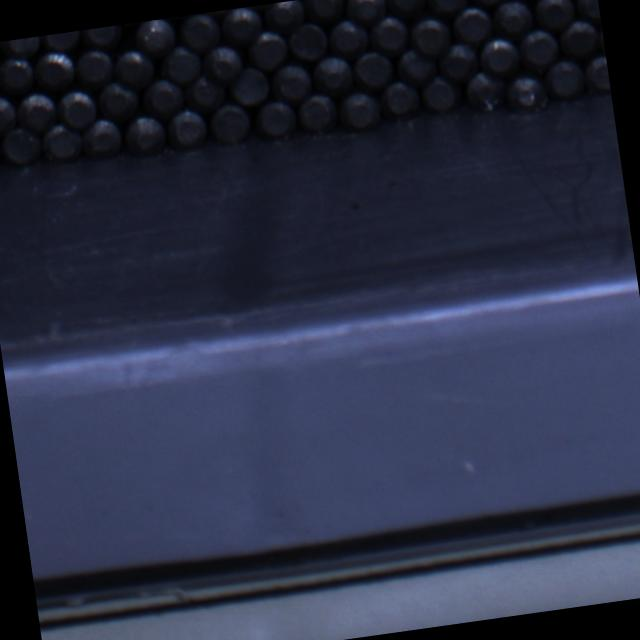tool: (123, 112, 169, 158), (112, 45, 158, 90), (208, 101, 254, 146), (464, 68, 509, 114), (15, 89, 60, 134), (268, 62, 314, 106), (78, 117, 124, 161), (408, 14, 454, 58), (436, 40, 482, 84), (96, 78, 142, 122), (246, 27, 291, 71), (515, 28, 560, 72), (477, 36, 522, 80), (296, 91, 341, 135), (337, 88, 382, 132), (311, 52, 356, 96), (140, 77, 186, 120), (201, 42, 245, 86), (328, 16, 372, 60), (32, 48, 76, 92), (368, 13, 412, 57), (56, 86, 100, 130), (544, 58, 588, 102), (164, 106, 208, 150), (506, 72, 550, 116), (39, 120, 84, 163), (183, 70, 228, 113), (226, 64, 272, 106), (287, 20, 331, 63), (352, 48, 396, 91), (452, 5, 496, 48), (179, 11, 224, 53), (417, 72, 462, 114), (1, 125, 45, 167), (160, 43, 204, 85), (72, 46, 116, 88), (396, 46, 440, 88), (254, 98, 298, 140), (558, 18, 602, 60), (378, 79, 422, 121), (220, 5, 264, 46), (133, 18, 178, 58), (489, 0, 534, 38), (261, 0, 307, 34), (0, 55, 36, 96), (531, 0, 576, 32), (584, 56, 612, 98), (344, 0, 389, 26), (82, 24, 126, 50), (304, 0, 347, 22), (1, 36, 42, 58), (42, 31, 84, 52), (0, 93, 20, 135), (387, 0, 430, 18), (426, 0, 470, 15), (574, 0, 601, 24)
